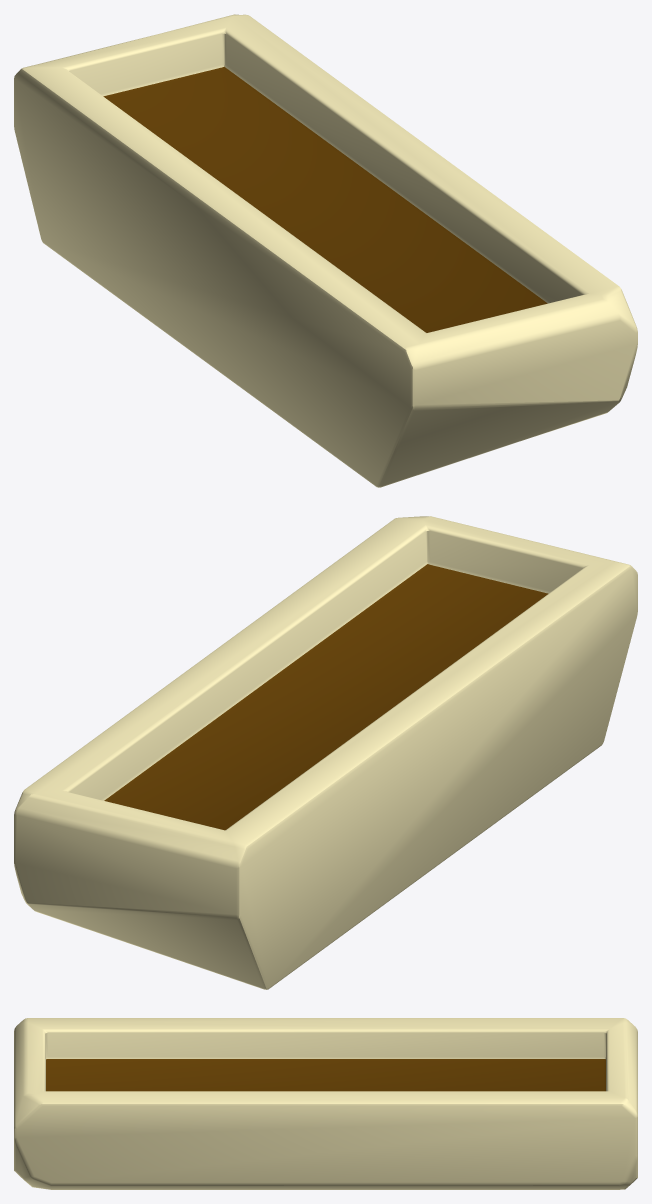
File: Module_Window_Planter_Long_02.fbx
3 renders of one model, top to bottom at view 1: azimuth 30°, elevation 25°; view 2: azimuth 150°, elevation 25°; view 3: azimuth 270°, elevation 25°, orthographic. The views are drawn at different scales.
Parts seen in each view (by area): view 1: Module_Window_Planter_Long_02_Geometry; view 2: Module_Window_Planter_Long_02_Geometry; view 3: Module_Window_Planter_Long_02_Geometry.
Part boxes in pixels (x1=…): Module_Window_Planter_Long_02_Geometry: x1=14, y1=14, x2=637, y2=487; Module_Window_Planter_Long_02_Geometry: x1=14, y1=516, x2=637, y2=989; Module_Window_Planter_Long_02_Geometry: x1=14, y1=1018, x2=637, y2=1189.
Bounding box in the file's own units: 0.6558 × 0.4419 × 2.
